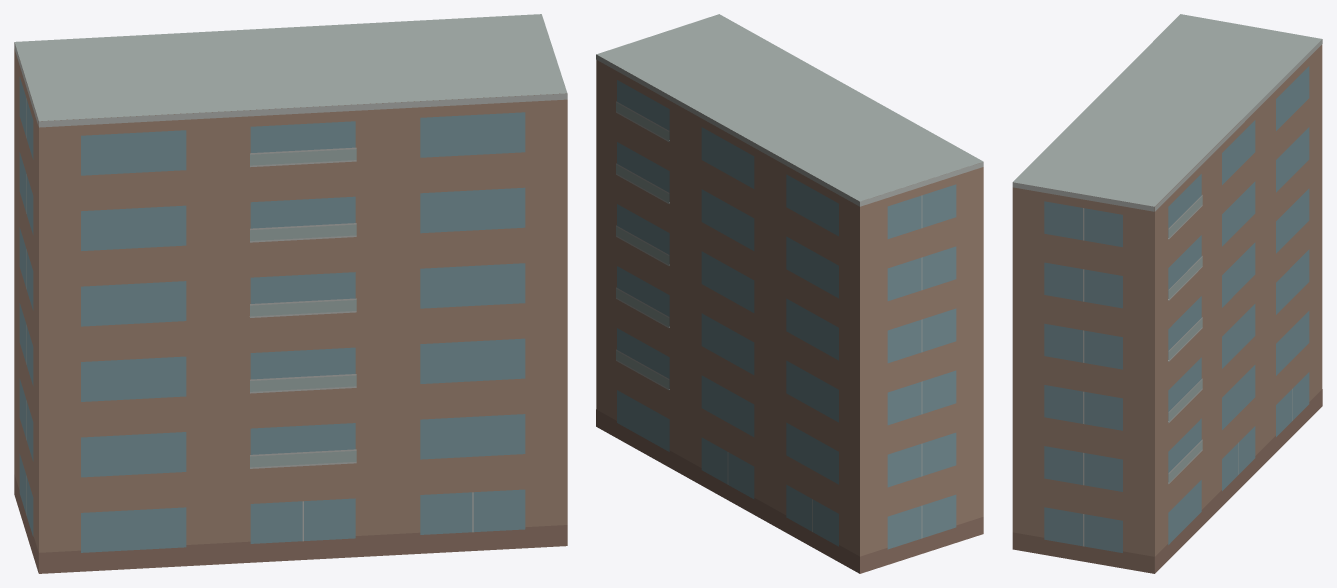
Rendered from survey-upis-33041405.glb.
The picture shows the model from 3 angles, left to right: view 1: azimuth 30°, elevation 25°; view 2: azimuth 150°, elevation 25°; view 3: azimuth 270°, elevation 25°; orthographic projection. The views are drawn at different scales.
Parts seen in each view (by area): view 1: survey-upis-33041405.tmp; view 2: survey-upis-33041405.tmp; view 3: survey-upis-33041405.tmp.
Part boxes in pixels (x1=…): survey-upis-33041405.tmp: x1=14, y1=14, x2=567, y2=573; survey-upis-33041405.tmp: x1=596, y1=14, x2=983, y2=573; survey-upis-33041405.tmp: x1=1012, y1=14, x2=1322, y2=573.
Bounding box in the file's own units: 19.83 × 17.6 × 13.47.
